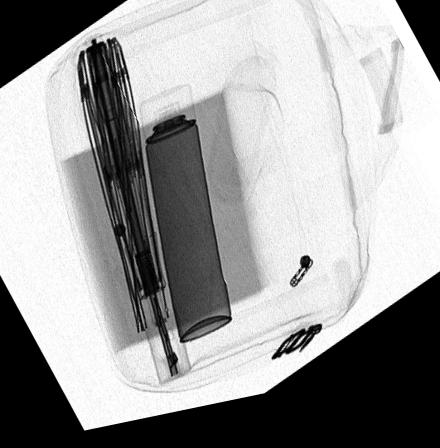Sprayer: (138, 91, 232, 349)
